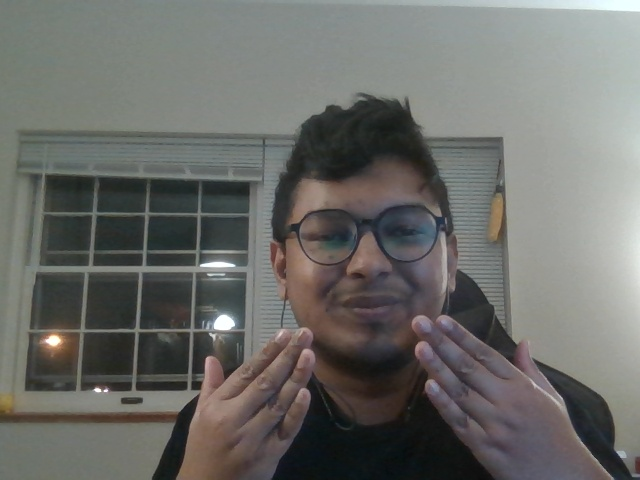thanks: (146, 303, 635, 473)
